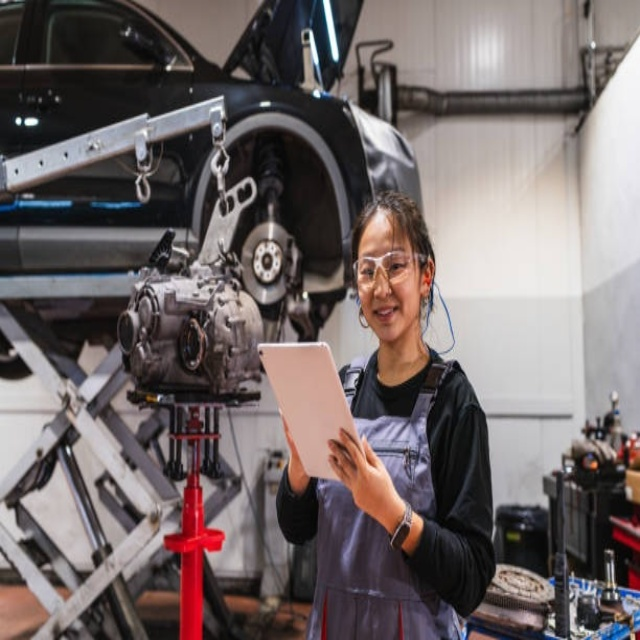Gafas: (353, 250, 425, 290)
Sin_guantes: (327, 429, 394, 520)
Sin_mascara: (367, 300, 404, 337)
